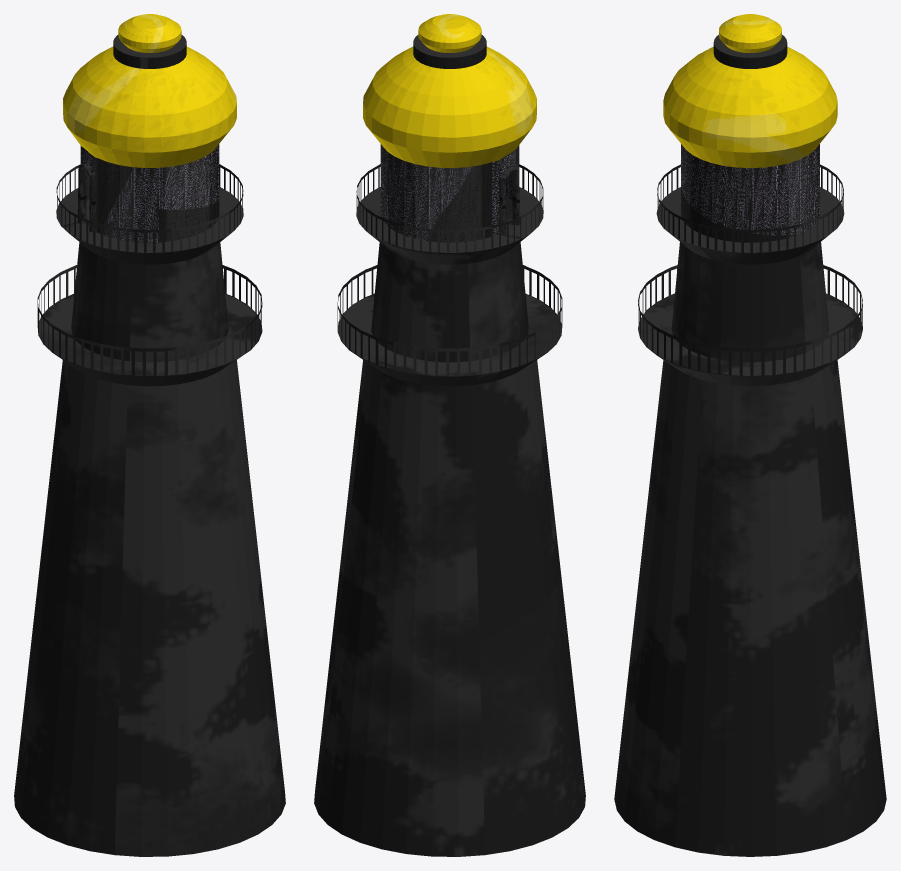
The model's file is FaroV2.fbx.
3 renders of one model, left to right at view 1: azimuth 30°, elevation 25°; view 2: azimuth 150°, elevation 25°; view 3: azimuth 270°, elevation 25°, orthographic.
Visible parts, largest first — view 1: Torus; view 2: Torus; view 3: Torus.
Boxes of the visible parts, x1,y1,x2,y2 form: Torus: [14, 14, 285, 856]; Torus: [314, 14, 585, 856]; Torus: [614, 14, 886, 856].
Size of the model in its own units: 200 by 631 by 200.
